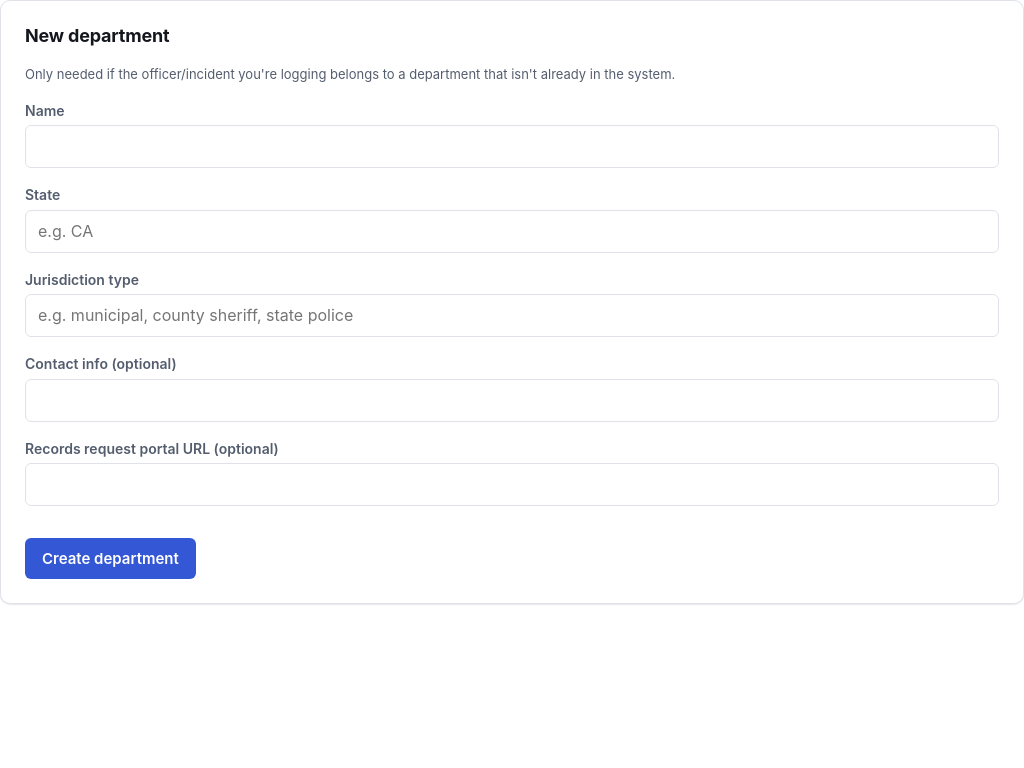
Test: NewDepartmentForm › blocks submission and shows an error when required fields are missing
This screenshot has width=1024, height=768.
Step 1. Click the button "Create department" → (110, 559), box [25, 538, 196, 579]
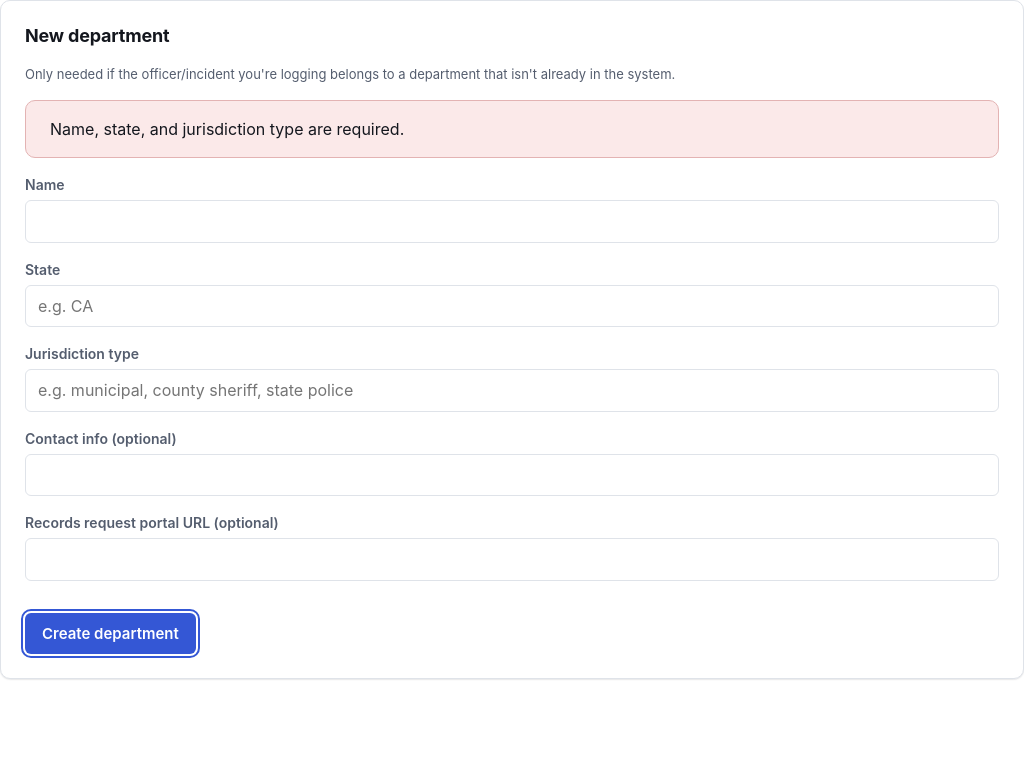
Check: the text "Name, state, and jurisdiction type are required." is shown, box [25, 100, 999, 158]
